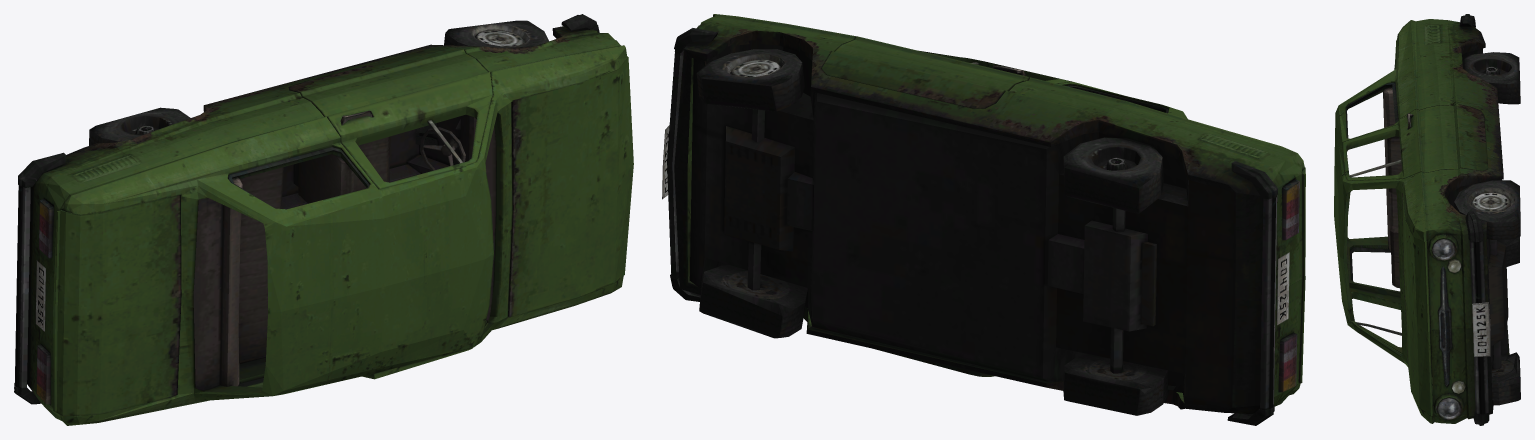
File: car.dae
The picture shows the model from 3 angles, left to right: view 1: azimuth 30°, elevation 25°; view 2: azimuth 150°, elevation 25°; view 3: azimuth 270°, elevation 25°; orthographic projection. The views are drawn at different scales.
Parts seen in each view (by area): view 1: Mesh; view 2: Mesh; view 3: Mesh.
Boxes of the visible parts, bbox=[...] form: Mesh: bbox=[14, 14, 633, 425]; Mesh: bbox=[662, 14, 1305, 425]; Mesh: bbox=[1334, 14, 1520, 425].
Size of the model in its own units: 187 by 65.05 by 83.46.
Materials: 1 (1 with a texture image).
